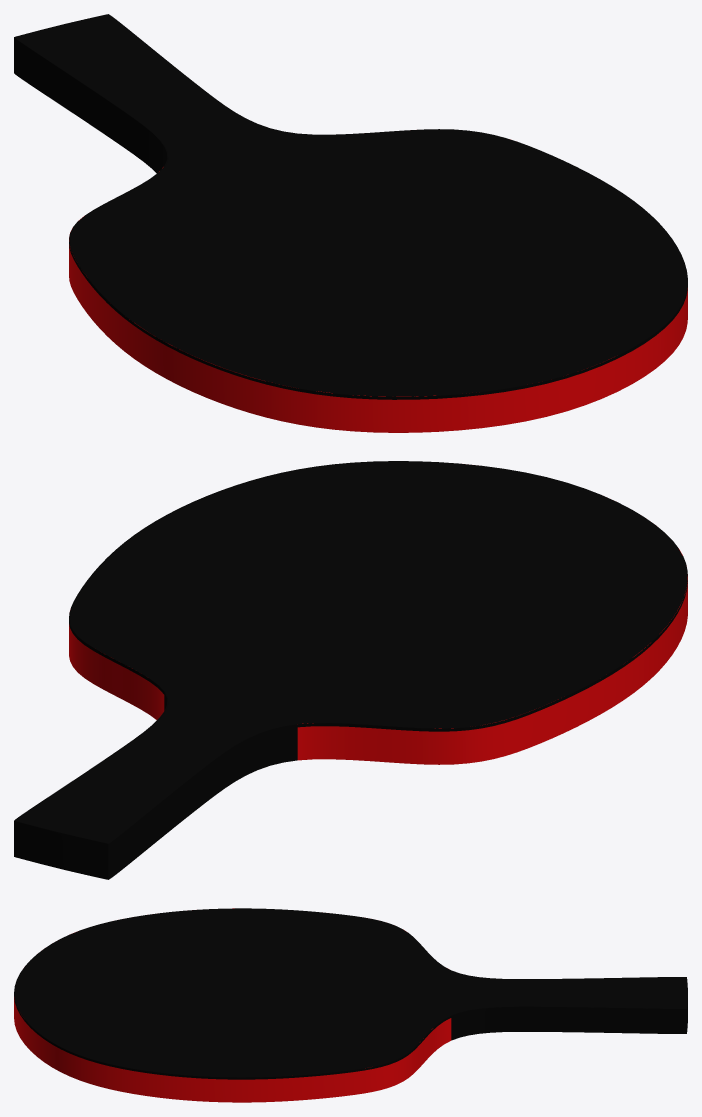
File: tabletennis-racket.fbx
3 renders of one model, top to bottom at view 1: azimuth 30°, elevation 25°; view 2: azimuth 150°, elevation 25°; view 3: azimuth 270°, elevation 25°, orthographic. The views are drawn at different scales.
Parts seen in each view (by area): view 1: racket; view 2: racket; view 3: racket.
Part boxes in pixels (x1,y1,x2,y2): racket: (14,14,687,432); racket: (14,461,687,879); racket: (14,908,687,1102).
Bounding box in the file's own units: 49.45 × 3.44 × 83.3.
